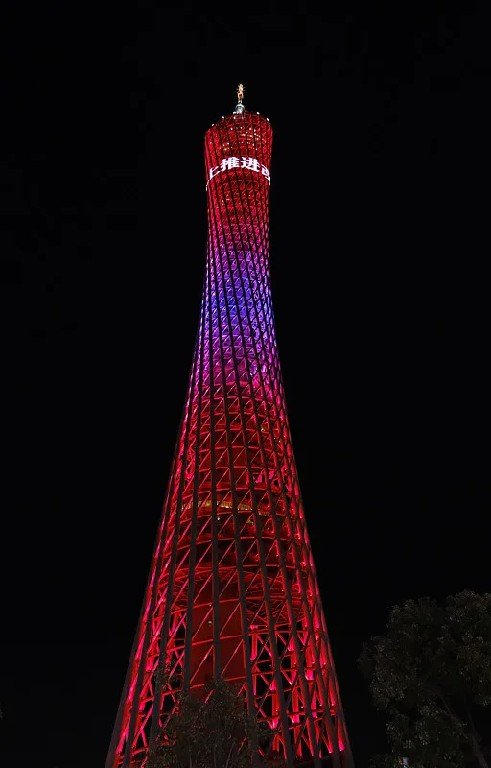Canton: (104, 82, 358, 766)
